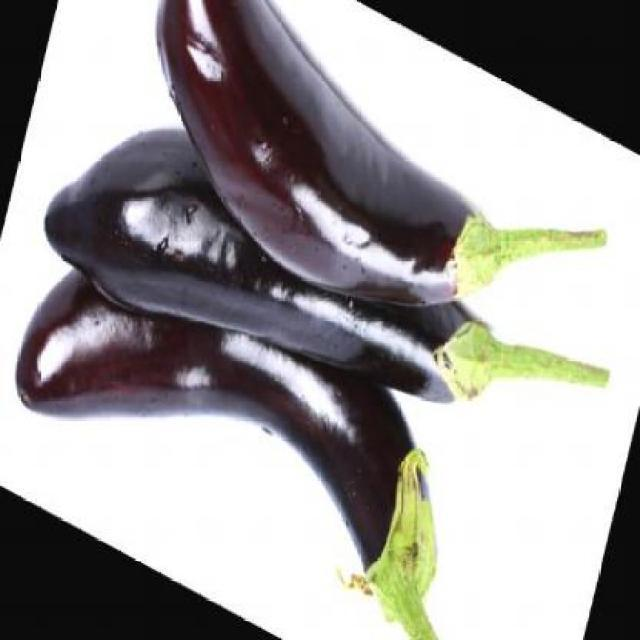eggplant: (0, 202, 497, 640), (38, 125, 610, 408), (151, 0, 611, 300)
